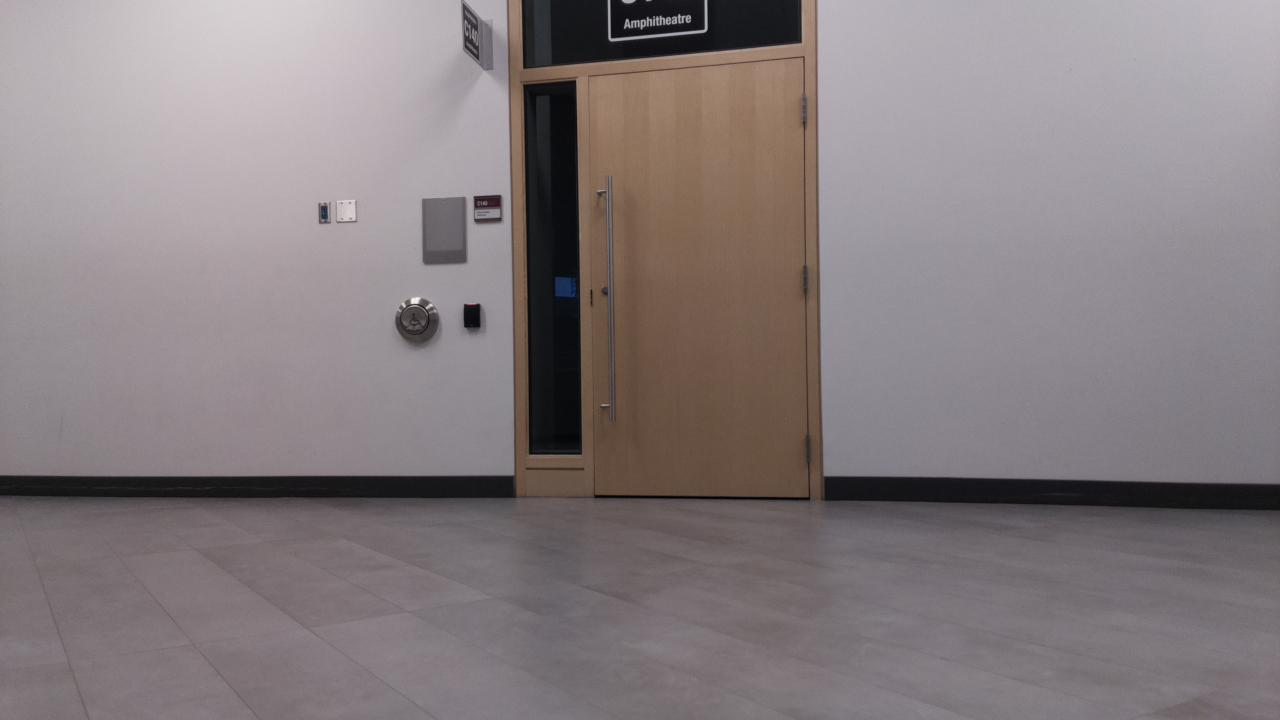door: (591, 57, 807, 497)
sign: (463, 5, 478, 58), (474, 196, 500, 219)
